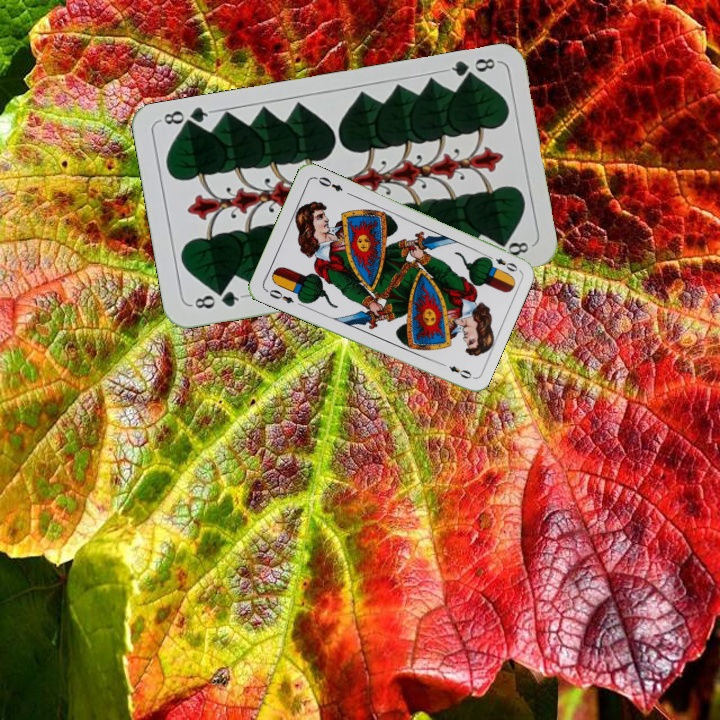EO: (482, 251, 520, 274), (262, 285, 296, 306)
G8: (441, 54, 500, 84), (187, 286, 246, 312)
